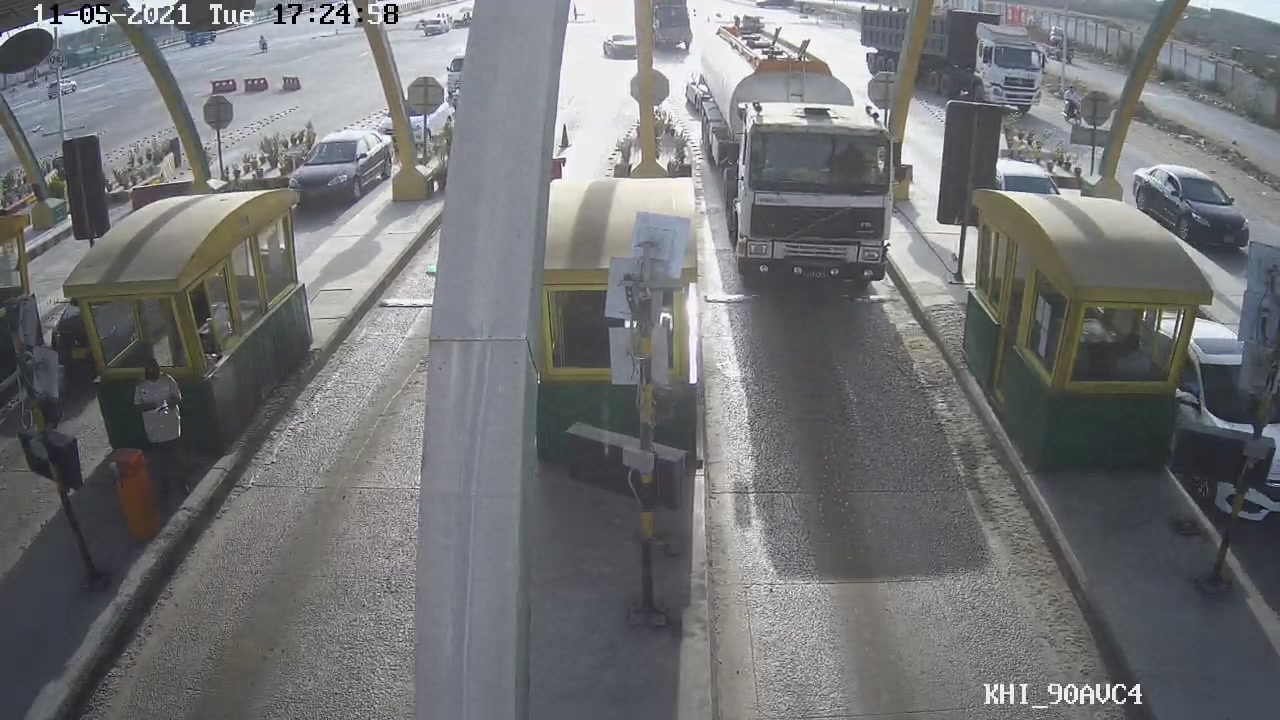F6: (696, 4, 886, 290)
